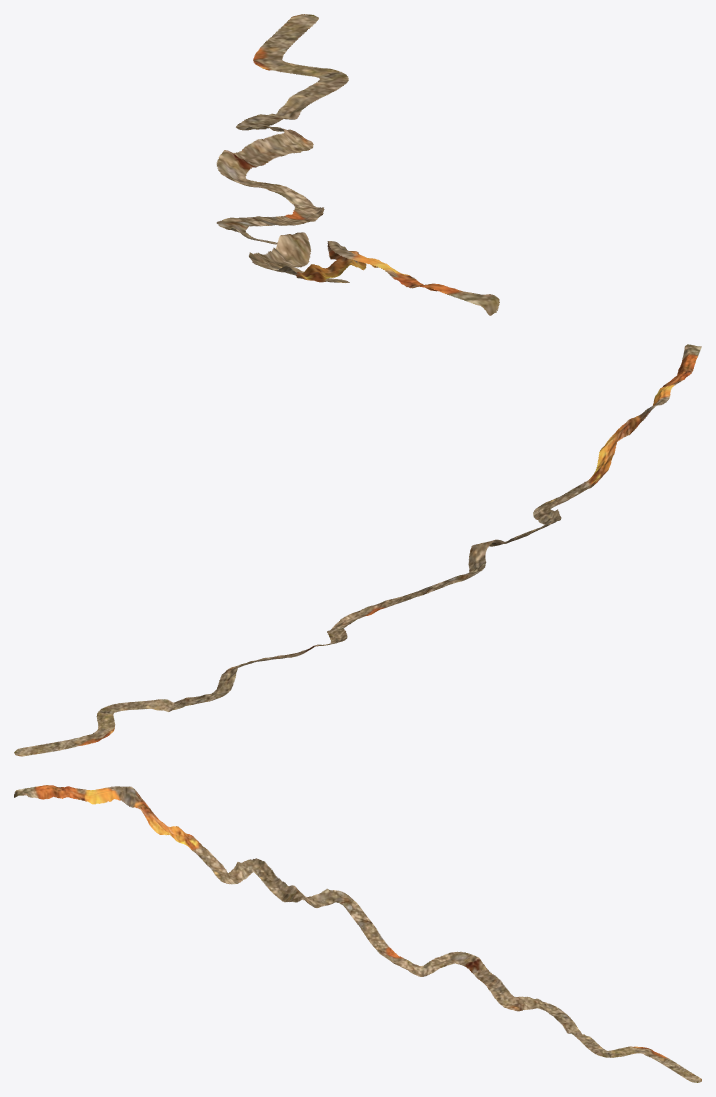
Rendered from corridor.glb.
The picture shows the model from 3 angles, top to bottom: view 1: azimuth 30°, elevation 25°; view 2: azimuth 150°, elevation 25°; view 3: azimuth 270°, elevation 25°; orthographic projection. The views are drawn at different scales.
Visible parts, largest first — view 1: V2 / graded trail corridor; view 2: V2 / graded trail corridor; view 3: V2 / graded trail corridor.
Part boxes in pixels (x1,y1,x2,y2): V2 / graded trail corridor: [216, 14, 499, 315]; V2 / graded trail corridor: [14, 344, 701, 756]; V2 / graded trail corridor: [14, 785, 701, 1082].
Size of the model in its own units: 649 by 373 by 1388.
1 material, 1 textured.
